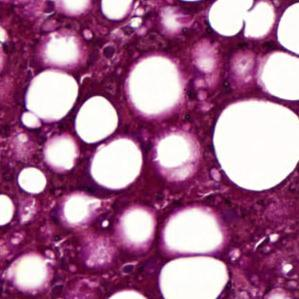steatosis: (77, 95, 119, 142)
